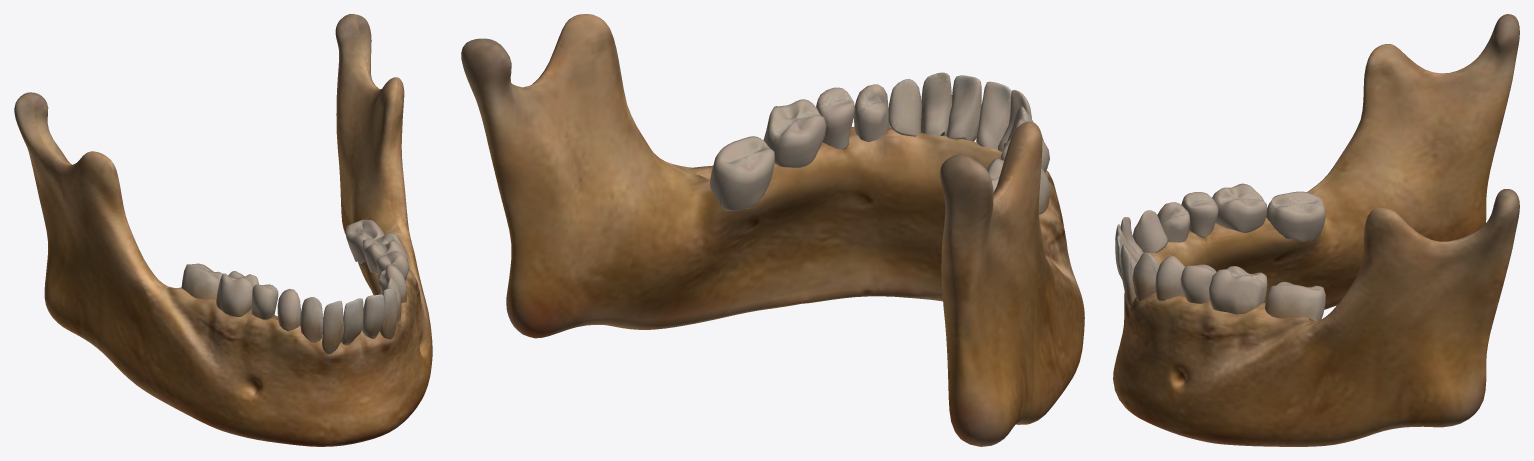
File: queixo.glb
3 views of the same model, side by side, from view 1: azimuth 30°, elevation 25°; view 2: azimuth 150°, elevation 25°; view 3: azimuth 270°, elevation 25° (orthographic). The views are drawn at different scales.
Visible parts, largest first — view 1: Queixo; view 2: Queixo; view 3: Queixo.
Boxes of the visible parts, x1,y1,x2,y2 form: Queixo: (14, 14, 432, 446); Queixo: (461, 14, 1084, 446); Queixo: (1113, 14, 1519, 446).
Size of the model in its own units: 15.44 by 10.97 by 13.79.
Materials: 1 (1 with a texture image).
